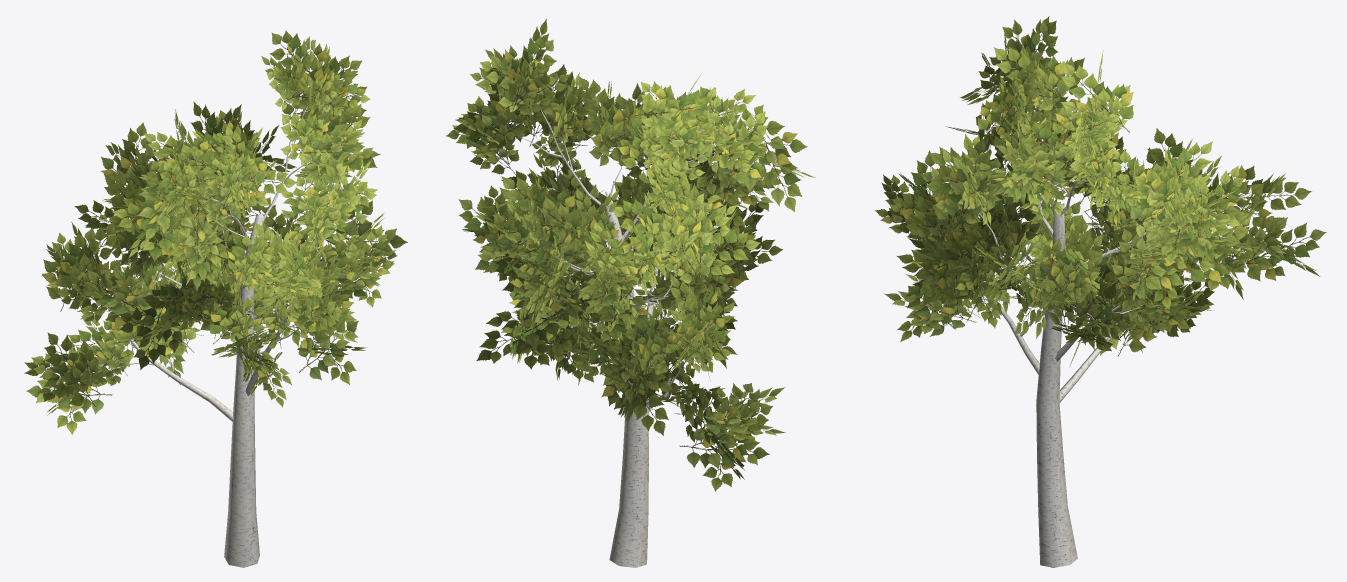
File: nature-white-silver-birch.glb
3 renders of one model, left to right at view 1: azimuth 30°, elevation 25°; view 2: azimuth 150°, elevation 25°; view 3: azimuth 270°, elevation 25°, orthographic. The views are drawn at different scales.
Visible parts, largest first — view 1: nature-white-silver-birch; view 2: nature-white-silver-birch; view 3: nature-white-silver-birch.
Part boxes in pixels (x1=…): nature-white-silver-birch: x1=24, y1=30, x2=407, y2=567; nature-white-silver-birch: x1=446, y1=18, x2=815, y2=567; nature-white-silver-birch: x1=875, y1=16, x2=1326, y2=567.
Size of the model in its own units: 5.68 by 8.3 by 6.58.
Materials: 2 (2 with a texture image).
